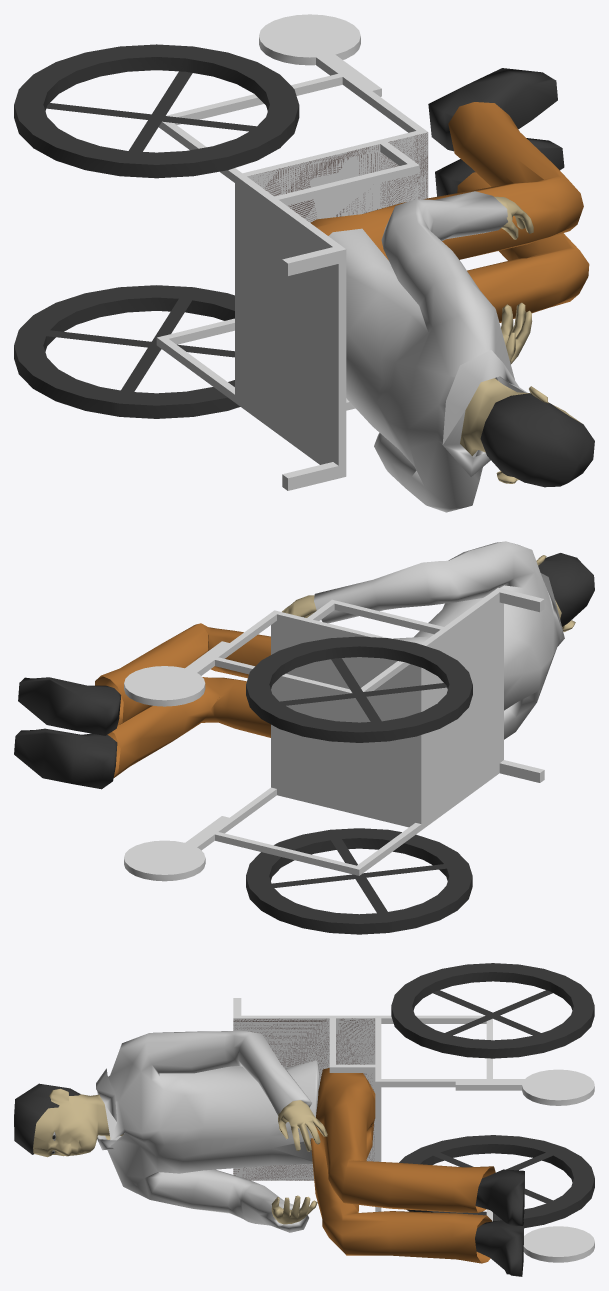
The model's file is wheelchair_with_person.dae.
3 views of the same model, one above another, from view 1: azimuth 30°, elevation 25°; view 2: azimuth 150°, elevation 25°; view 3: azimuth 270°, elevation 25° (orthographic). The views are drawn at different scales.
Visible parts, largest first — view 1: coords_ME_ID70_MA_Shape_003, coords_ME_ID4_MA_Chair_1, coords_ME_ID98_MA_Shape_10, coords_ME_ID49_MA_Wheels, coords_ME_ID36_MA_Wheels, coords_ME_ID92_MA_Shape_9, coords_ME_ID26_MA_Chair_1, coords_ME_ID55_MA_Wheels, coords_ME_ID106_MA_Shape_9, coords_ME_ID42_MA_Wheels, coords_ME_ID20_MA_Chair_1, coords_ME_ID26_MA_Chair_2 (+4 smaller); view 2: coords_ME_ID4_MA_Chair_1, coords_ME_ID70_MA_Shape_003, coords_ME_ID98_MA_Shape_10, coords_ME_ID49_MA_Wheels, coords_ME_ID36_MA_Wheels, coords_ME_ID78_MA_Shape_9, coords_ME_ID106_MA_Shape_9, coords_ME_ID55_MA_Wheels, coords_ME_ID42_MA_Wheels, coords_ME_ID12_MA_Chair_1, coords_ME_ID20_MA_Chair_1, coords_ME_ID92_MA_Shape_9; view 3: coords_ME_ID70_MA_Shape_003, coords_ME_ID98_MA_Shape_10, coords_ME_ID49_MA_Wheels, coords_ME_ID26_MA_Chair_1, coords_ME_ID4_MA_Chair_1, coords_ME_ID36_MA_Wheels, coords_ME_ID62_MA_Shape_8, coords_ME_ID55_MA_Wheels, coords_ME_ID20_MA_Chair_1, coords_ME_ID12_MA_Chair_1, coords_ME_ID106_MA_Shape_9, coords_ME_ID26_MA_Chair_2 (+5 smaller).
Boxes of the visible parts, box(x1,y1,x2,y2) form: coords_ME_ID70_MA_Shape_003: box(328, 191, 527, 512); coords_ME_ID4_MA_Chair_1: box(156, 54, 427, 490); coords_ME_ID98_MA_Shape_10: box(310, 102, 589, 322); coords_ME_ID49_MA_Wheels: box(14, 44, 299, 178); coords_ME_ID36_MA_Wheels: box(14, 285, 240, 418); coords_ME_ID92_MA_Shape_9: box(480, 393, 594, 487); coords_ME_ID26_MA_Chair_1: box(247, 132, 428, 222); coords_ME_ID55_MA_Wheels: box(43, 57, 269, 151); coords_ME_ID106_MA_Shape_9: box(428, 68, 557, 151); coords_ME_ID42_MA_Wheels: box(43, 297, 234, 391); coords_ME_ID20_MA_Chair_1: box(259, 14, 360, 65); coords_ME_ID26_MA_Chair_2: box(256, 132, 427, 221); coords_ME_ID4_MA_Chair_1: box(185, 587, 544, 875); coords_ME_ID70_MA_Shape_003: box(314, 541, 564, 739); coords_ME_ID98_MA_Shape_10: box(95, 623, 270, 777); coords_ME_ID49_MA_Wheels: box(246, 636, 472, 742); coords_ME_ID36_MA_Wheels: box(246, 828, 472, 934); coords_ME_ID78_MA_Shape_9: box(14, 728, 117, 789); coords_ME_ID106_MA_Shape_9: box(18, 677, 120, 735); coords_ME_ID55_MA_Wheels: box(269, 646, 449, 721); coords_ME_ID42_MA_Wheels: box(269, 838, 449, 913); coords_ME_ID12_MA_Chair_1: box(124, 840, 205, 881); coords_ME_ID20_MA_Chair_1: box(124, 666, 205, 706); coords_ME_ID92_MA_Shape_9: box(538, 553, 594, 626); coords_ME_ID70_MA_Shape_003: box(96, 1030, 320, 1232); coords_ME_ID98_MA_Shape_10: box(310, 1068, 495, 1263); coords_ME_ID49_MA_Wheels: box(391, 963, 594, 1058); coords_ME_ID26_MA_Chair_1: box(233, 1018, 375, 1180); coords_ME_ID4_MA_Chair_1: box(233, 998, 524, 1236); coords_ME_ID36_MA_Wheels: box(399, 1135, 594, 1228); coords_ME_ID62_MA_Shape_8: box(33, 1088, 123, 1157); coords_ME_ID55_MA_Wheels: box(412, 972, 573, 1035); coords_ME_ID20_MA_Chair_1: box(522, 1069, 594, 1105); coords_ME_ID12_MA_Chair_1: box(523, 1226, 594, 1262); coords_ME_ID106_MA_Shape_9: box(475, 1169, 524, 1226); coords_ME_ID26_MA_Chair_2: box(233, 1018, 374, 1180).
Bounding box in the file's own units: 13.17 × 6.3 × 17.16.
